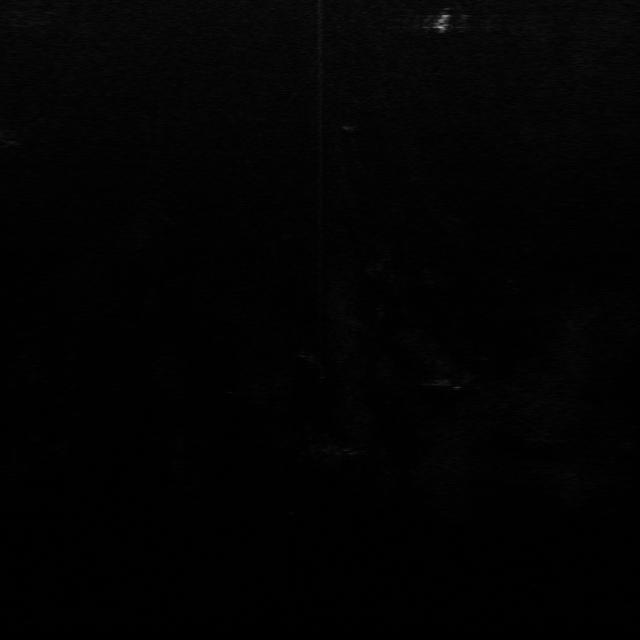rov: (428, 10, 456, 32)
